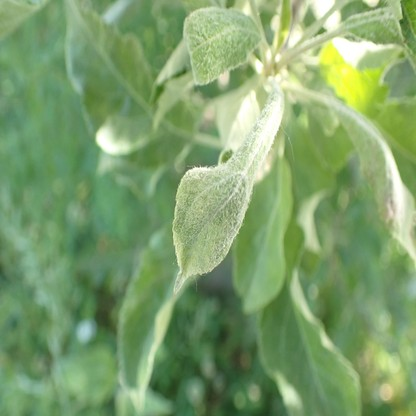powdery_mildew: (173, 92, 284, 298), (182, 7, 264, 85)
